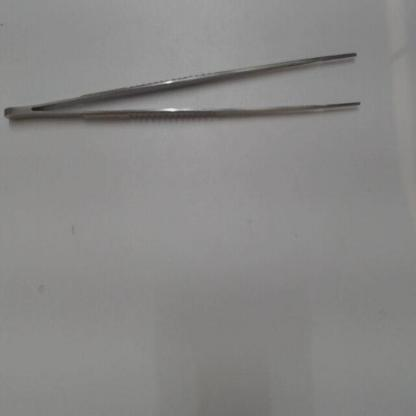DeBakey Dissector: (4, 39, 377, 146)
